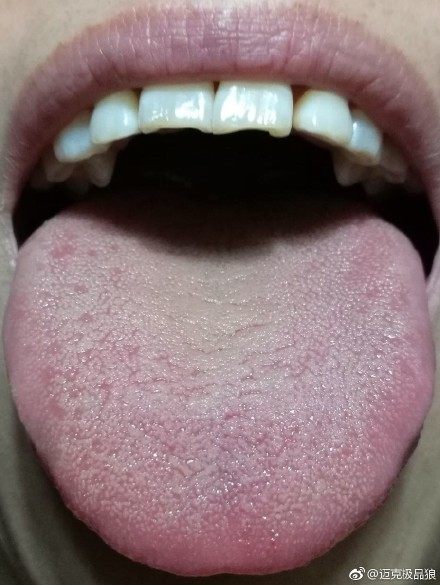baitaishe: (4, 205, 437, 577)
